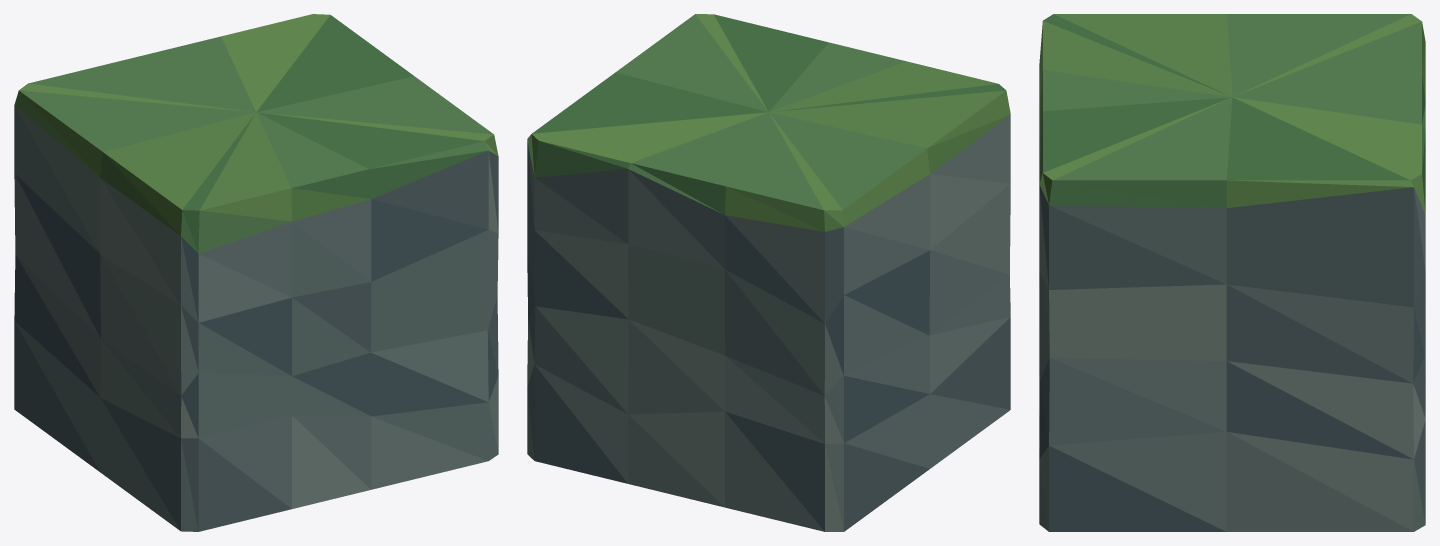
Rendered from launch-bluff.glb.
The picture shows the model from 3 angles, left to right: view 1: azimuth 30°, elevation 25°; view 2: azimuth 150°, elevation 25°; view 3: azimuth 270°, elevation 25°; orthographic projection. The views are drawn at different scales.
Parts seen in each view (by area): view 1: launch-bluff; view 2: launch-bluff; view 3: launch-bluff.
Part boxes in pixels (x1,y1,x2,y2): launch-bluff: (14,14,498,531); launch-bluff: (527,14,1010,531); launch-bluff: (1039,14,1425,531).
Size of the model in its own units: 27 by 26 by 26.
Materials: 1 (1 with a texture image).
